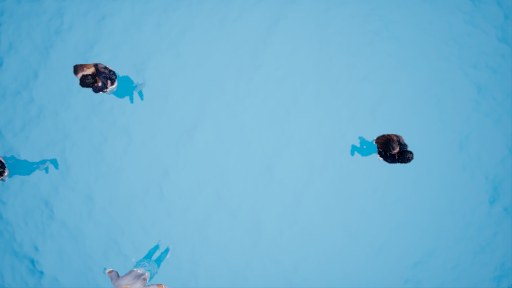person: (94, 237, 179, 288), (66, 62, 161, 107), (348, 132, 417, 168)
